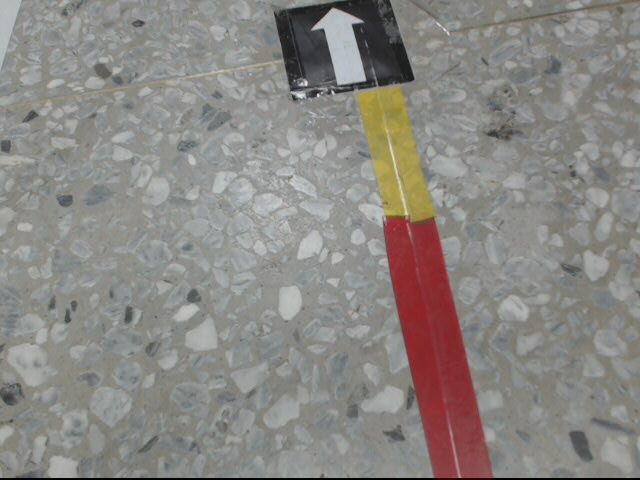straight: (271, 1, 418, 102)
